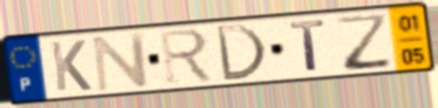D: (213, 23, 270, 83)
K: (48, 38, 94, 93)
N: (89, 30, 152, 94)
R: (156, 27, 218, 86)
T: (287, 18, 328, 74)
Z: (333, 11, 396, 74)
